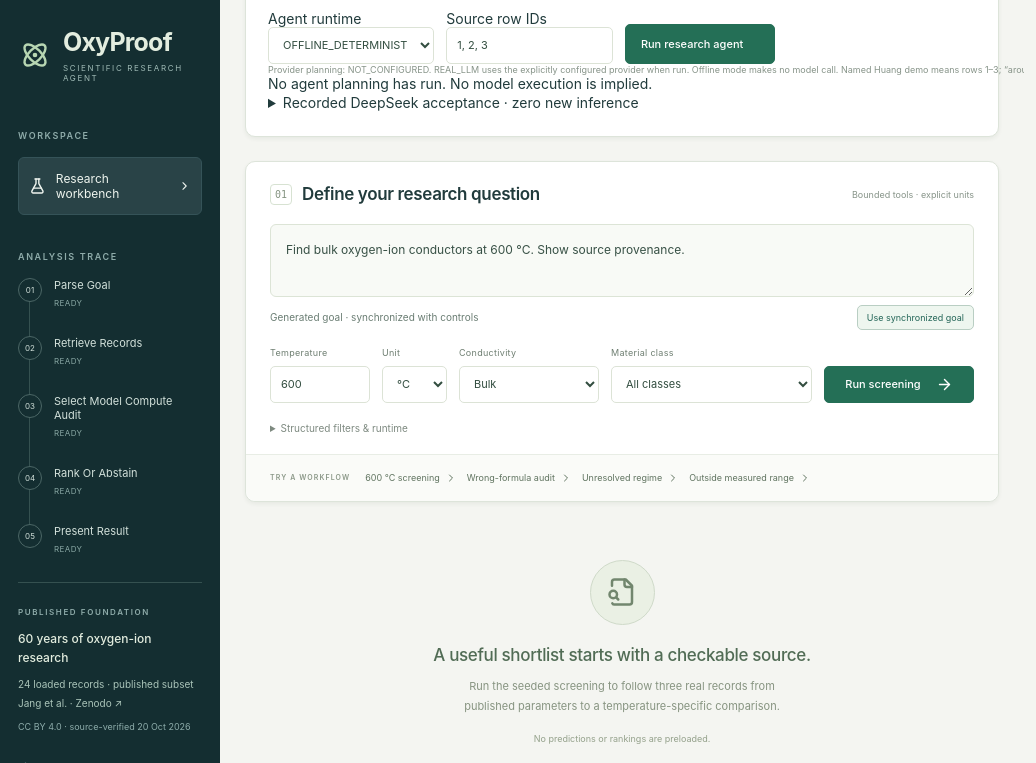
Test: workbench API contract › surfaces API failure without candidate results
The width and height of the screenshot is (1036, 763).
(page scrolled)
Step 1. Click the button "Run screening" → (899, 384), box [824,366,974,403]
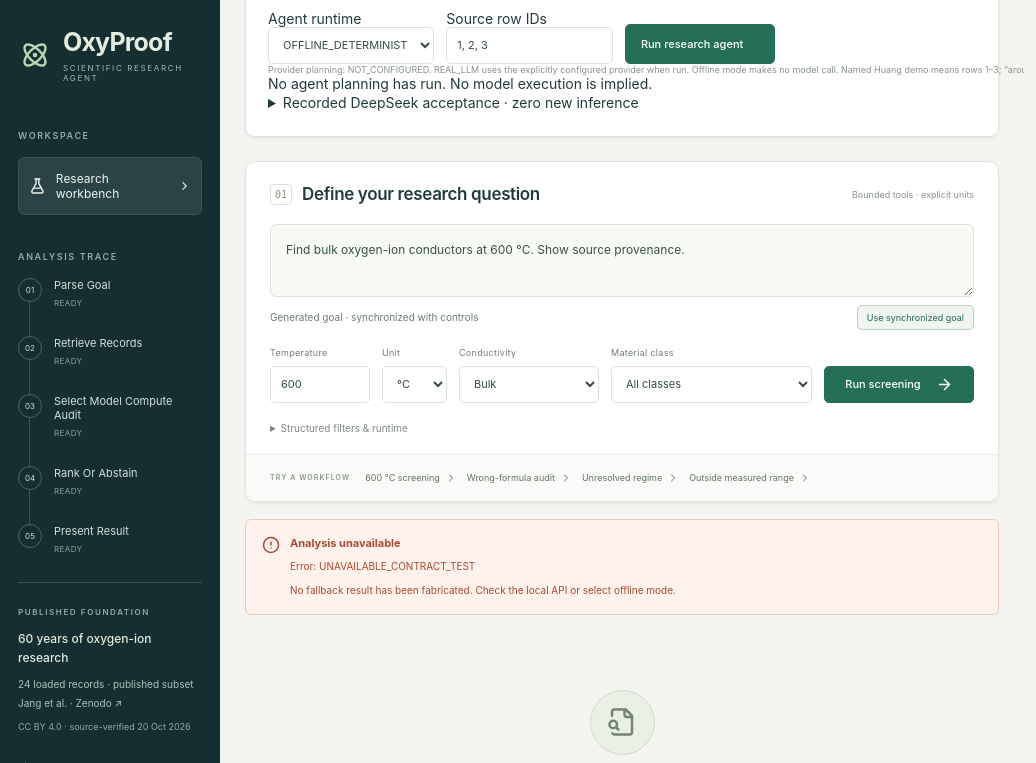
Expected: the message shows "UNAVAILABLE_CONTRACT_TEST", [290,560,475,572]
